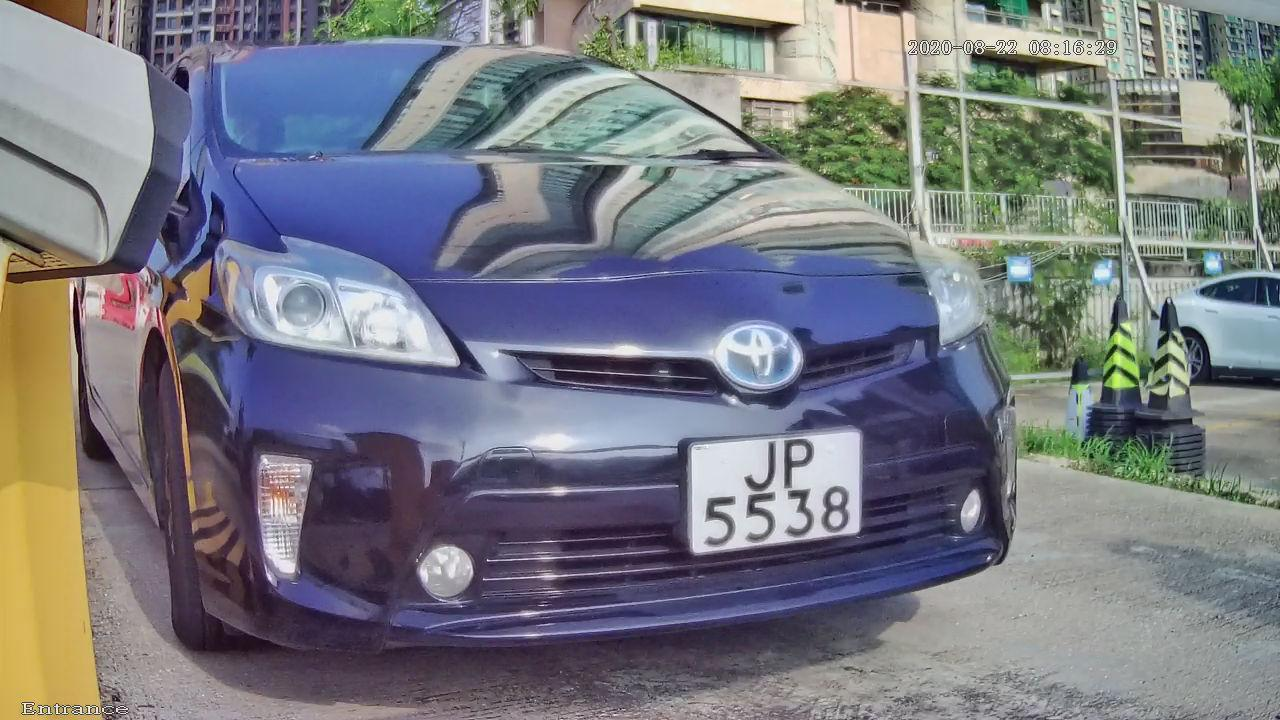Car: (52, 1, 1092, 708)
License Plate: (669, 412, 886, 566)
